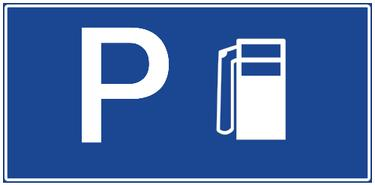Petrol Pump- Gas Station: (203, 21, 301, 154)
